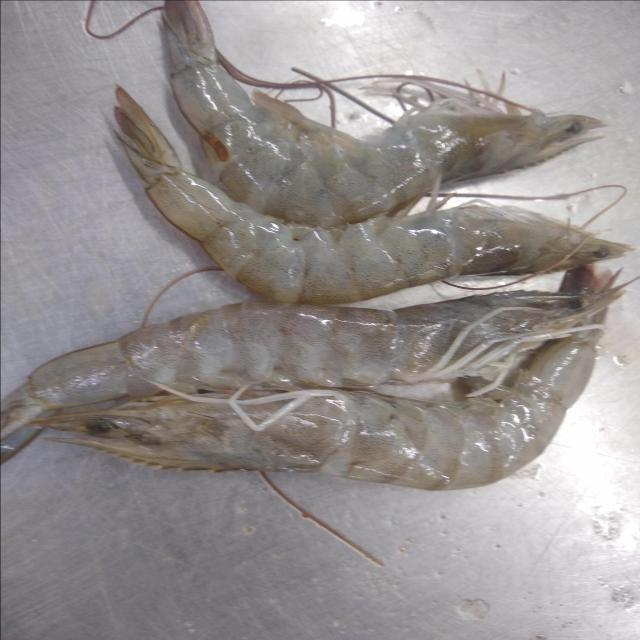shrimp: (161, 0, 604, 228), (119, 109, 630, 303), (1, 286, 624, 432), (30, 331, 599, 490)
